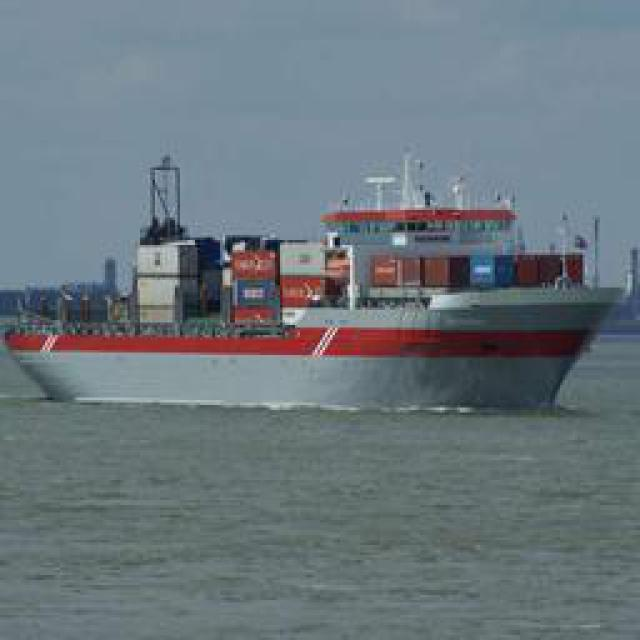Ship: (9, 145, 624, 405)
